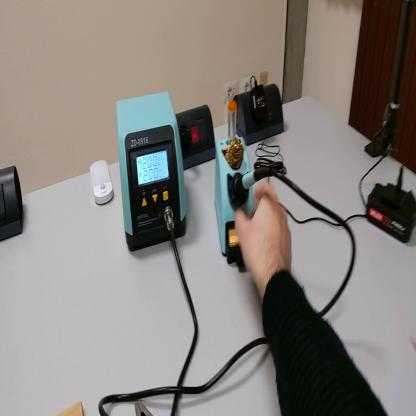electric screwdriver battery: (365, 181, 416, 243)
hand: (236, 185, 292, 281)
pliers: (134, 402, 154, 416)
socket: (236, 83, 284, 145), (178, 103, 218, 172)
welder base: (216, 104, 257, 272)
welder probe tip: (235, 166, 276, 202)
welder station: (118, 90, 188, 252)
working area: (60, 404, 86, 415)
